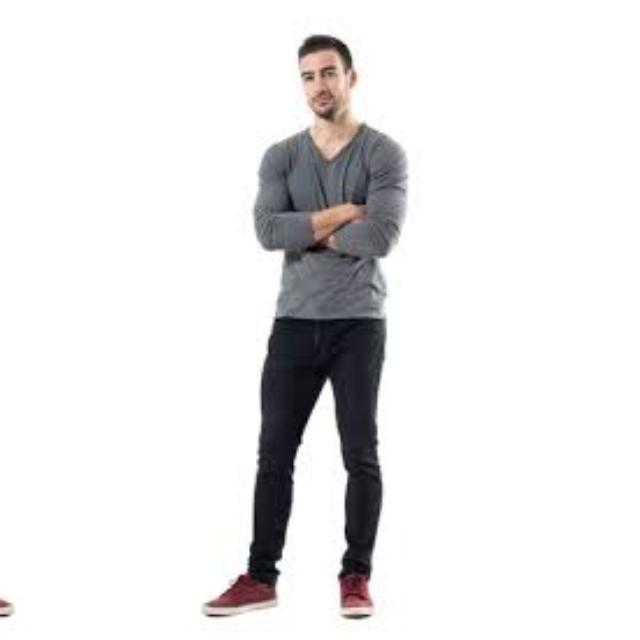person: (231, 29, 417, 640)
